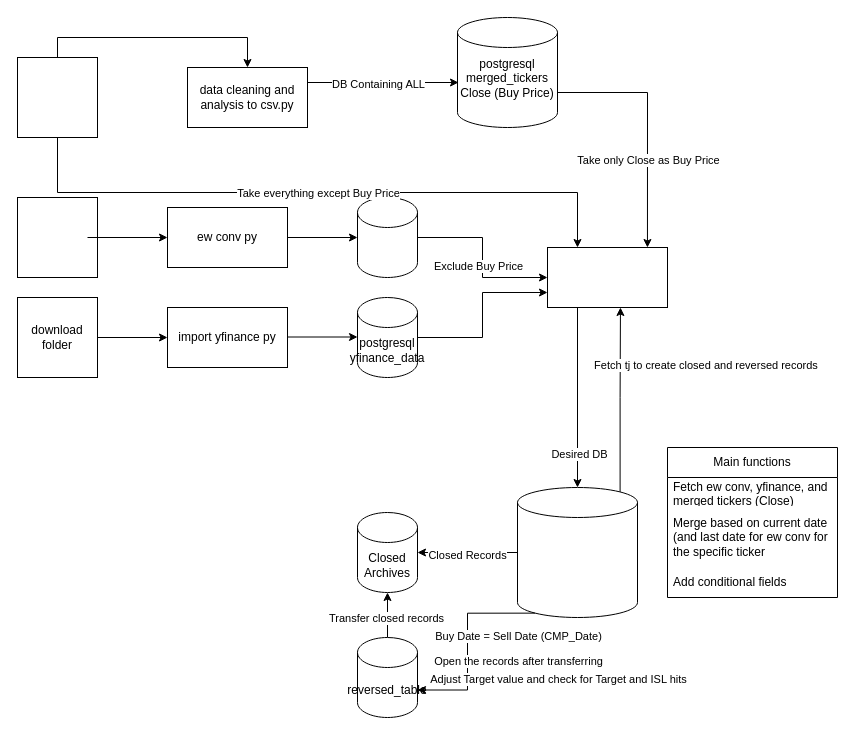
The diagram is 855 pixels wide and 735 high, and some of its shapes have lost their labels. Here are the shapes that lost their labels. From the top down, the centre of each, then its label:
the point at 57,97: daily ticker list source files
the point at 57,237: ew conv source file
the point at 387,237: postgresql ew_conv_table
the point at 607,277: testing.py (MAIN FILE)
the point at 577,552: postgresql Trade Journal
